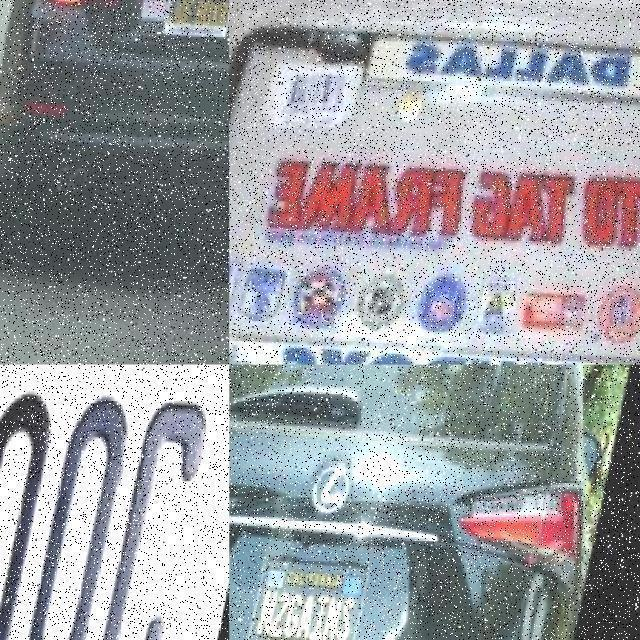license_plate: (228, 89, 640, 329), (0, 364, 224, 640), (248, 546, 376, 640), (163, 1, 229, 52)
